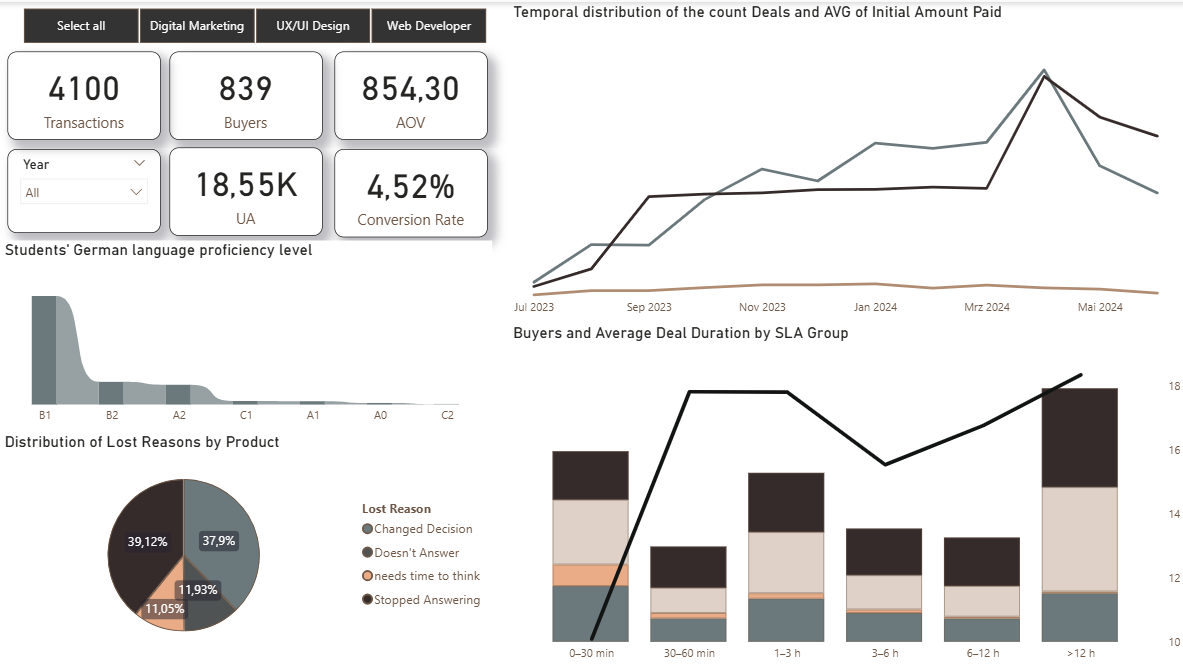

The dashboard page shown, as its layout file describes it:
{"tool":"powerbi","page":{"name":"Deals","canvas":[1280,720],"ordinal":0},"visuals":[{"type":"lineStackedColumnComboChart","title":"Buyers and Average Deal Duration by SLA Group","fields":{"Y":["Calls_clean.Buyers"],"Y2":["Avg(Deals_clean.Deal Duration Days)"],"Series":["Deals_clean.Deal Duration Group"],"Category":["Deals_clean.SLA Group"]},"box":[548.8,346.8,730.1,373.8],"z":0},{"type":"pieChart","title":"Distribution of Lost Reasons by Product","fields":{"Y":["CountNonNull(Deals_clean.Lost Reason)"],"Series":["Deals_clean.Lost Reason"]},"box":[0,464.5,532.9,245],"z":1000},{"type":"lineChart","title":"Temporal distribution of the count Deals and AVG of Initial Amount Paid","fields":{"Y":["Count(Deals_clean.Id)"],"Category":["Deals_clean.Created Date.Variation.Date Hierarchy.Year","Deals_clean.Created Date.Variation.Date Hierarchy.Month"],"Y2":["Avg(Deals_clean.Initial Amount Paid clean)","Calls_clean.Buyers"]},"box":[548.8,0,730.1,346.8],"z":2000},{"type":"slicer","fields":{"Values":["Deals_clean.Product"]},"box":[0,0,548.8,50.9],"z":3000},{"type":"slicer","fields":{"Values":["Deals_clean.Created Date.Variation.Date Hierarchy.Year"]},"box":[8.1,158.7,165.2,90.7],"z":4000},{"type":"card","fields":{"Values":["Calls_clean.AOV"]},"box":[361.1,54.1,165,95.4],"z":5000},{"type":"card","fields":{"Values":["Calls_clean.Buyers"]},"box":[183,53.4,165.2,95.5],"z":6000},{"type":"card","fields":{"Values":["Calls_clean.UA"]},"box":[183,157.1,165.2,95.5],"z":7000},{"type":"card","fields":{"Values":["Calls_clean.Transactions"]},"box":[8,54.1,165.4,95.4],"z":8000},{"type":"card","fields":{"Values":["Calls_clean.Conversion Rate1"]},"box":[361.1,158.7,165.2,95.5],"z":9000},{"type":"ribbonChart","title":"Students'' German language proficiency level","fields":{"Category":["Deals_clean.Language_level"],"Y":["CountNonNull(Deals_clean.Id)"]},"box":[0,257.7,531.3,206.8],"z":10000}]}

Visuals, with their boxes in screenshot pixels (x1, y1, x2, y2), scaled from the page's 1280x720 canvas onto the 1183x664 screenshot:
"Buyers and Average Deal Duration by SLA Group" lineStackedColumnComboChart: detection(507, 320, 1182, 663)
"Distribution of Lost Reasons by Product" pieChart: detection(0, 428, 493, 654)
"Temporal distribution of the count Deals and AVG of Initial Amount Paid" lineChart: detection(507, 0, 1182, 320)
slicer - Deals_clean.Product: detection(0, 0, 507, 47)
slicer - Deals_clean.Created Date.Variation.Date Hierarchy.Year: detection(7, 146, 160, 230)
card - Calls_clean.AOV: detection(334, 50, 486, 138)
card - Calls_clean.Buyers: detection(169, 49, 322, 137)
card - Calls_clean.UA: detection(169, 145, 322, 233)
card - Calls_clean.Transactions: detection(7, 50, 160, 138)
card - Calls_clean.Conversion Rate1: detection(334, 146, 486, 234)
"Students'' German language proficiency level" ribbonChart: detection(0, 238, 491, 428)
